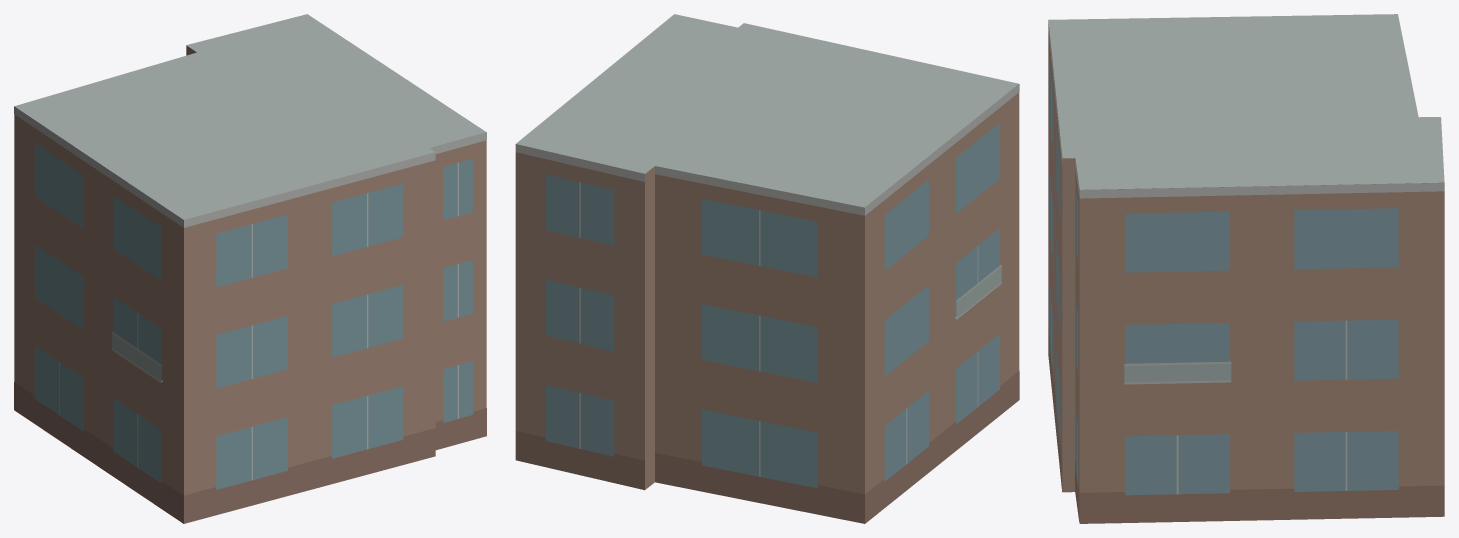
Rendered from survey-upis-32597348.glb.
The picture shows the model from 3 angles, left to right: view 1: azimuth 30°, elevation 25°; view 2: azimuth 150°, elevation 25°; view 3: azimuth 270°, elevation 25°; orthographic projection. The views are drawn at different scales.
Parts seen in each view (by area): view 1: survey-upis-32597348.tmp; view 2: survey-upis-32597348.tmp; view 3: survey-upis-32597348.tmp.
Part boxes in pixels (x1,y1,x2,y2): survey-upis-32597348.tmp: [14, 14, 486, 523]; survey-upis-32597348.tmp: [515, 14, 1019, 523]; survey-upis-32597348.tmp: [1048, 14, 1444, 523].
Bounding box in the file's own units: 10.62 × 9.4 × 10.12.
